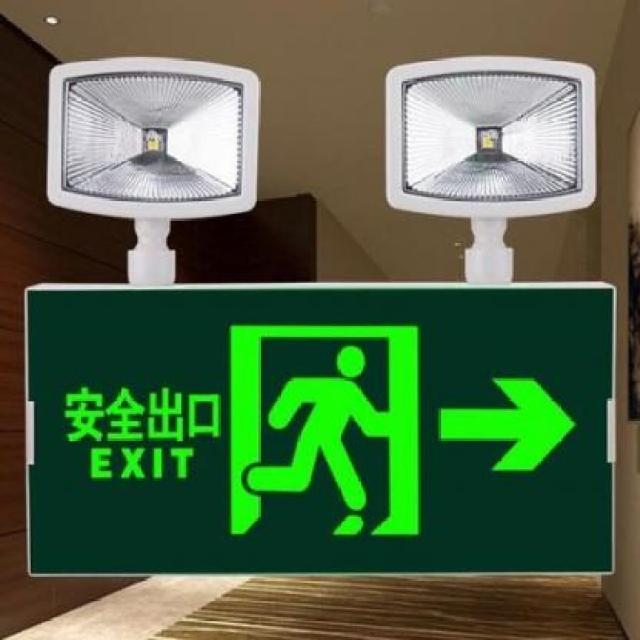exit_sign: (18, 276, 620, 586)
